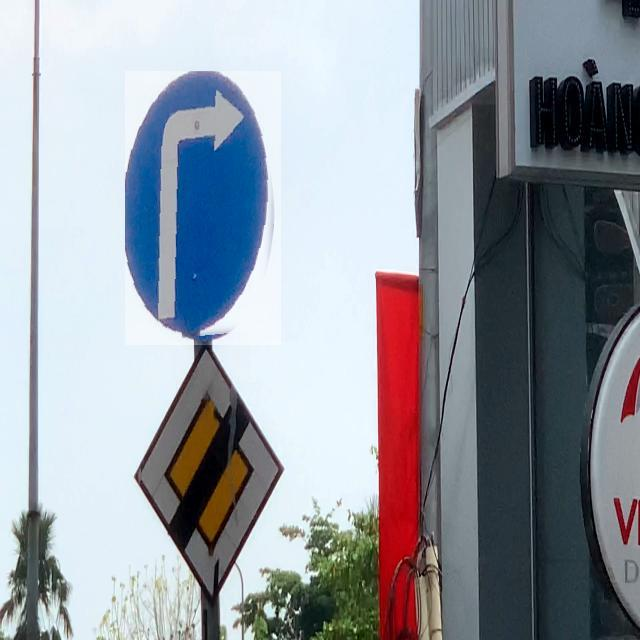R-301d: (125, 71, 281, 345)
